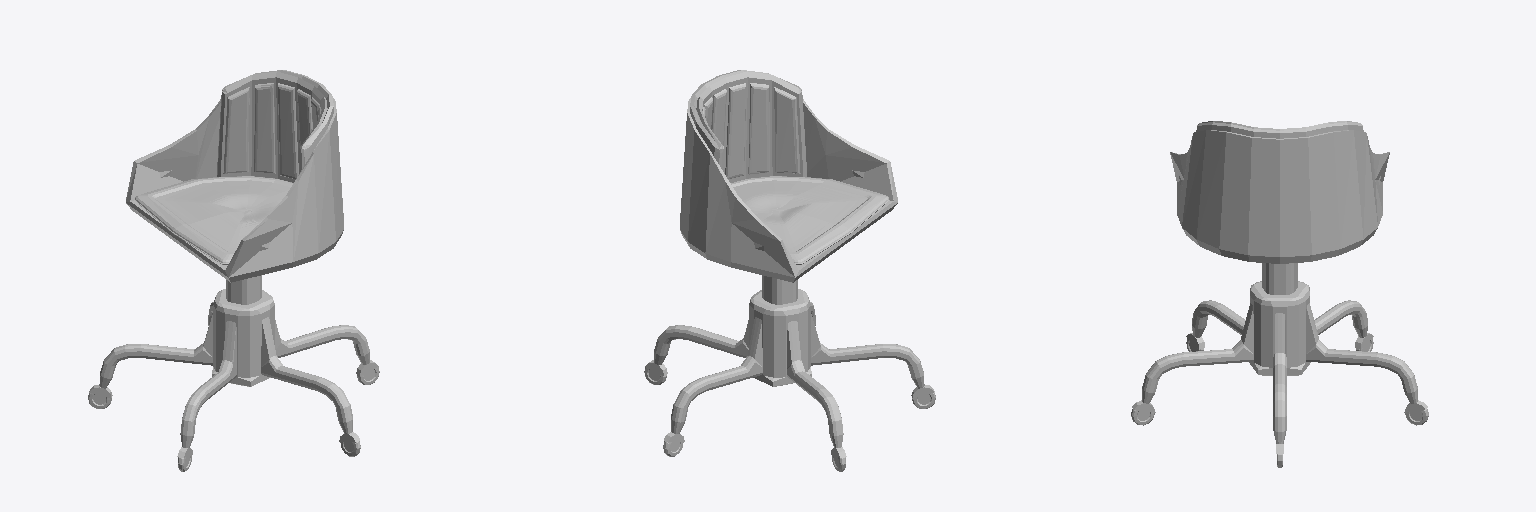
Rendered from Chair.obj.
3 views of the same model, side by side, from view 1: azimuth 30°, elevation 25°; view 2: azimuth 150°, elevation 25°; view 3: azimuth 270°, elevation 25° (orthographic).
Visible parts, largest first — view 1: Cube.008, Cube.006, Cylinder.003, Cylinder.004, Cylinder.005; view 2: Cube.008, Cube.006, Cylinder.003, Cylinder.004, Cylinder.005; view 3: Cube.006, Cylinder.003, Cylinder.004, Cube.008, Cylinder.005.
Boxes of the visible parts, box(x1,y1,x2,y2) form: Cube.008: box(135, 70, 333, 264); Cube.006: box(126, 98, 343, 282); Cylinder.003: box(89, 302, 378, 457); Cylinder.004: box(212, 275, 274, 386); Cylinder.005: box(88, 367, 379, 471); Cube.008: box(690, 70, 888, 264); Cube.006: box(680, 98, 897, 282); Cylinder.003: box(645, 302, 934, 457); Cylinder.004: box(749, 275, 811, 386); Cylinder.005: box(644, 367, 935, 471); Cube.006: box(1170, 130, 1389, 263); Cylinder.003: box(1132, 300, 1427, 453); Cylinder.004: box(1249, 263, 1310, 375); Cube.008: box(1196, 121, 1363, 138); Cylinder.005: box(1131, 338, 1428, 467).
Bounding box in the file's own units: 1.42 × 1.72 × 1.49.